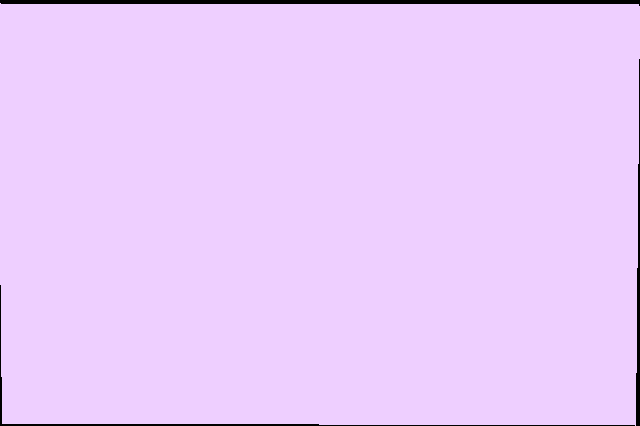Train: (0, 3, 639, 426)
